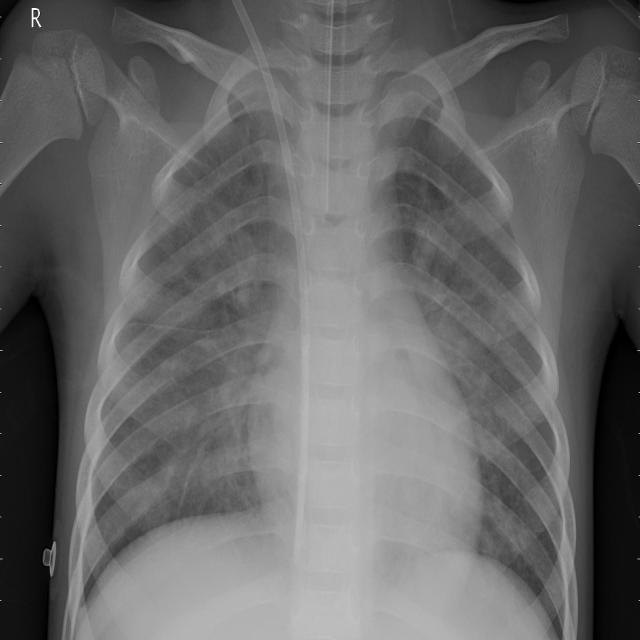low-pneumonia: (414, 211, 508, 450), (185, 344, 256, 507)
